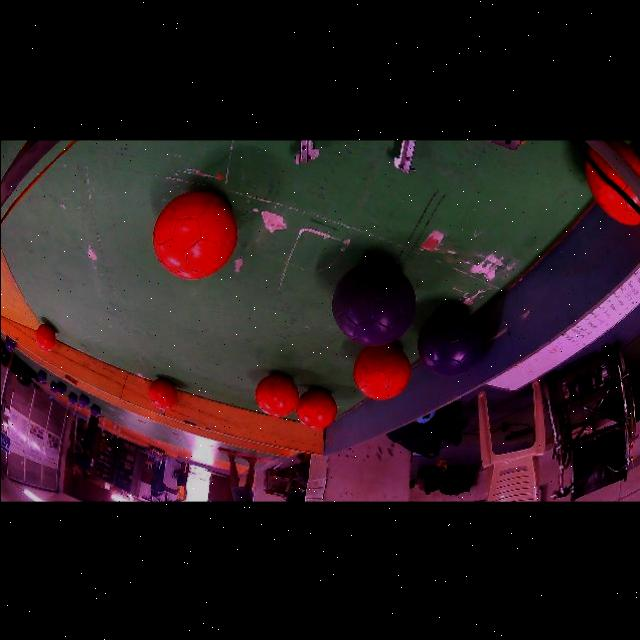P: (331, 260, 414, 345), (417, 307, 481, 375), (4, 335, 14, 351), (77, 393, 89, 406), (67, 391, 77, 404), (90, 403, 100, 416), (37, 369, 46, 382), (48, 380, 56, 391)
R: (151, 190, 237, 278), (584, 160, 640, 224), (585, 146, 640, 206), (353, 343, 409, 399), (255, 374, 299, 416), (295, 389, 336, 428), (606, 138, 640, 177), (148, 377, 177, 409), (34, 322, 55, 350)
